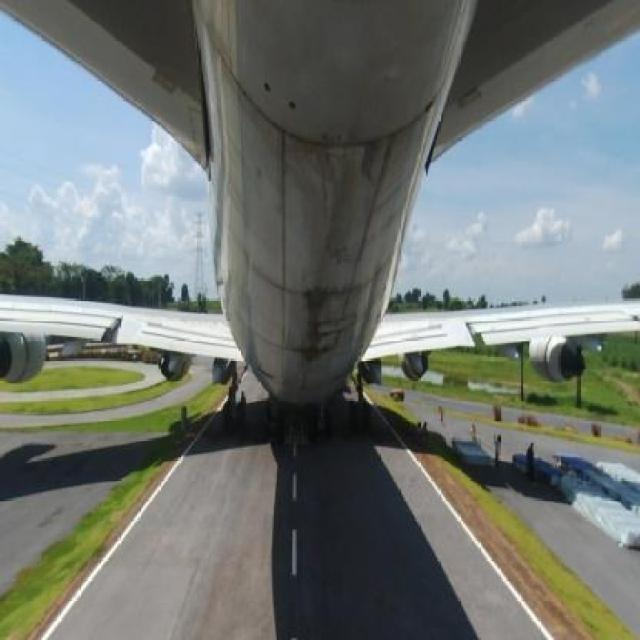Scartch: (296, 112, 376, 282), (282, 276, 353, 372)
